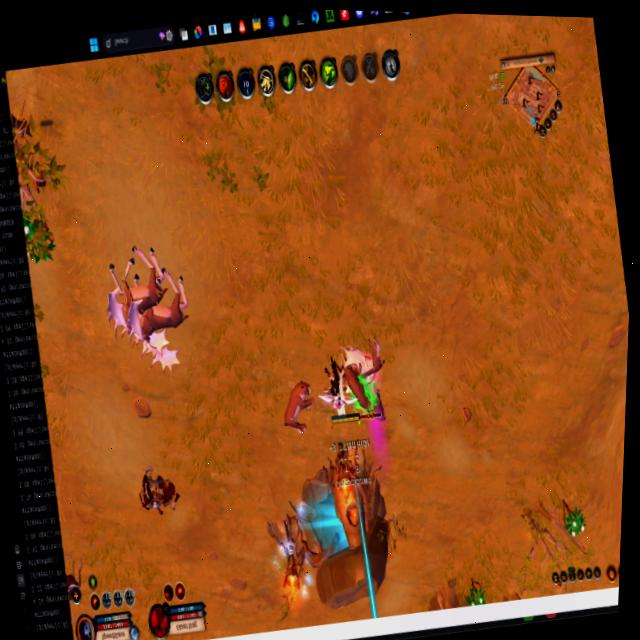hide: (21, 211, 61, 271), (563, 505, 588, 541), (465, 580, 487, 607)
mob: (103, 232, 201, 370), (276, 376, 322, 438), (349, 335, 389, 382)
ore: (332, 330, 395, 433), (133, 464, 169, 521)
red: (318, 355, 355, 425)
